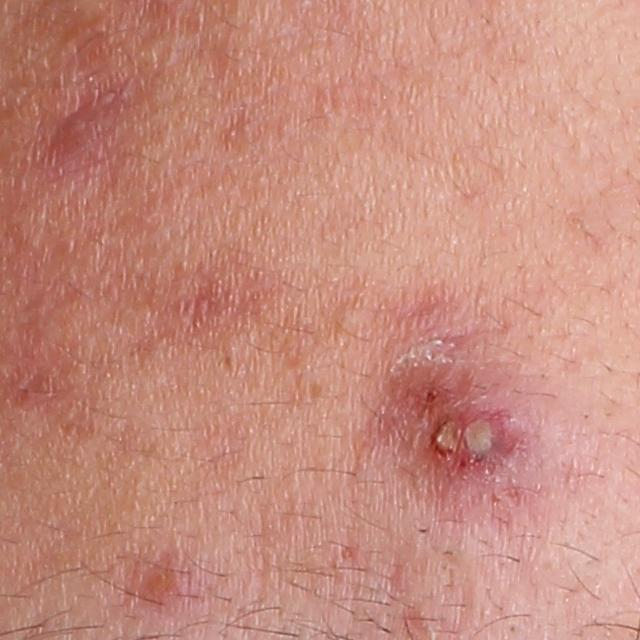comedo: (334, 299, 372, 337)
papule: (51, 104, 102, 159)
